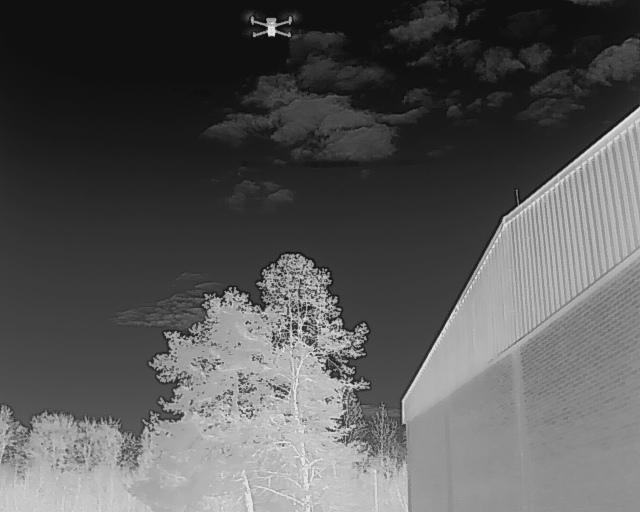drone: (239, 5, 301, 47)
